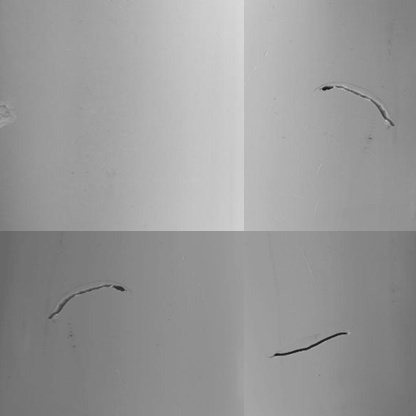fengxi: (315, 82, 392, 128), (45, 279, 130, 317), (269, 328, 349, 362)
sunshang: (1, 100, 20, 133)
